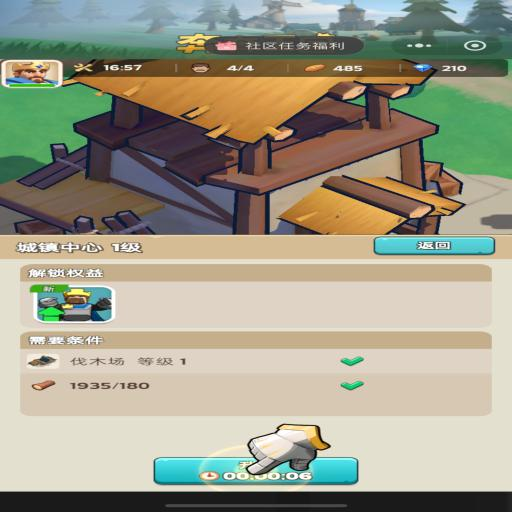newcomer_hand: (246, 423, 330, 473)
